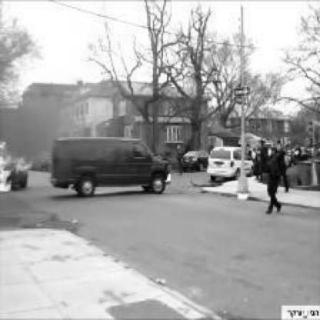Fire: (0, 144, 33, 192)
Smoke: (1, 78, 68, 146)
